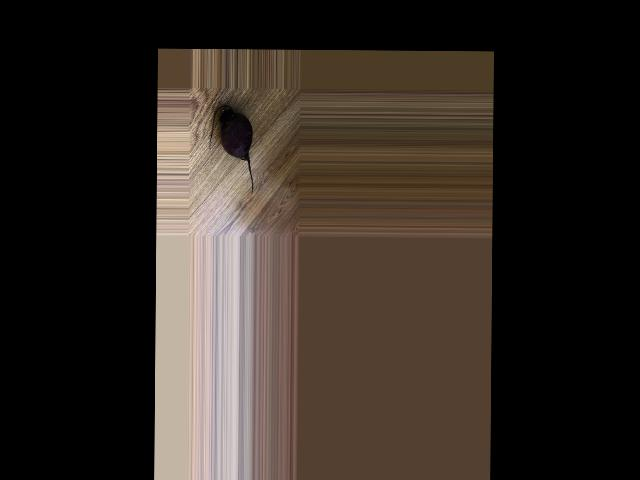beet: (209, 105, 254, 194)
